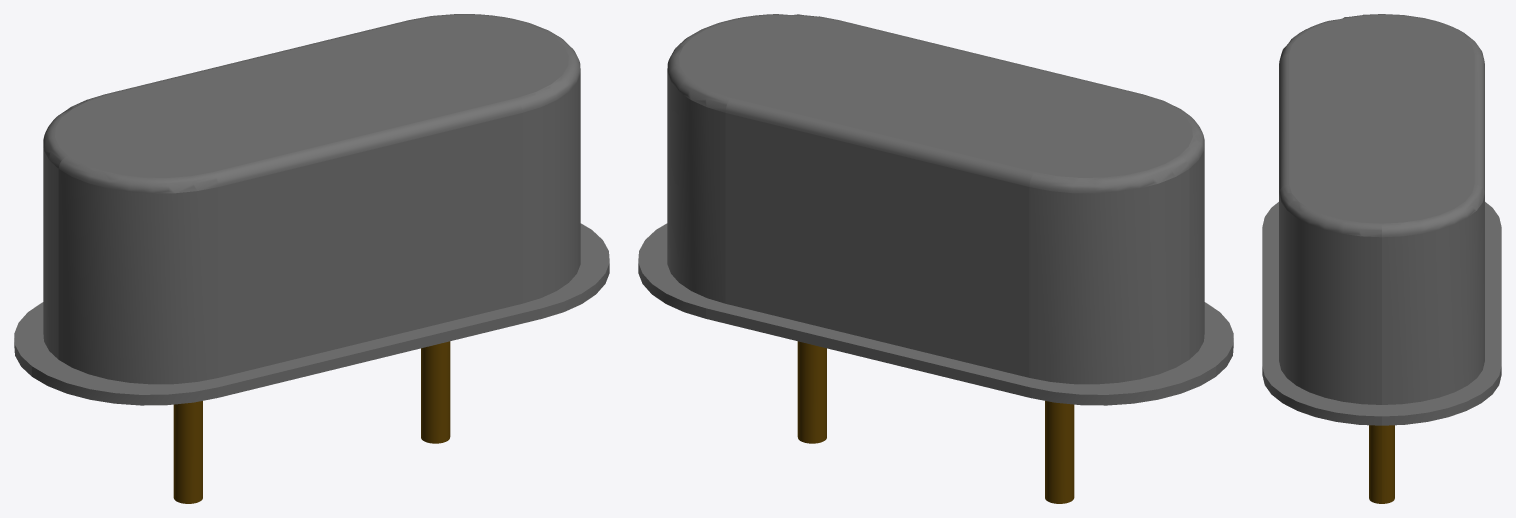
Rendered from kc-crystal_hc49-4h_vertical.glb.
The picture shows the model from 3 angles, left to right: view 1: azimuth 30°, elevation 25°; view 2: azimuth 150°, elevation 25°; view 3: azimuth 270°, elevation 25°; orthographic projection. The views are drawn at different scales.
Parts seen in each view (by area): view 1: 0.16666666666666666_0.16666666666666666_0.16666666666666666_, 0.16666666666666666_0.08333333333333333_0_0; view 2: 0.16666666666666666_0.16666666666666666_0.16666666666666666_, 0.16666666666666666_0.08333333333333333_0_0; view 3: 0.16666666666666666_0.16666666666666666_0.16666666666666666_, 0.16666666666666666_0.08333333333333333_0_0.
Part boxes in pixels (<box>): 0.16666666666666666_0.16666666666666666_0.16666666666666666_: <box>14,14,609,405</box>; 0.16666666666666666_0.08333333333333333_0_0: <box>173,341,450,503</box>; 0.16666666666666666_0.16666666666666666_0.16666666666666666_: <box>638,14,1233,405</box>; 0.16666666666666666_0.08333333333333333_0_0: <box>797,341,1074,503</box>; 0.16666666666666666_0.16666666666666666_0.16666666666666666_: <box>1262,14,1501,425</box>; 0.16666666666666666_0.08333333333333333_0_0: <box>1369,425,1394,503</box>.
Size of the model in its own units: 1.11 by 0.7 by 0.465.
